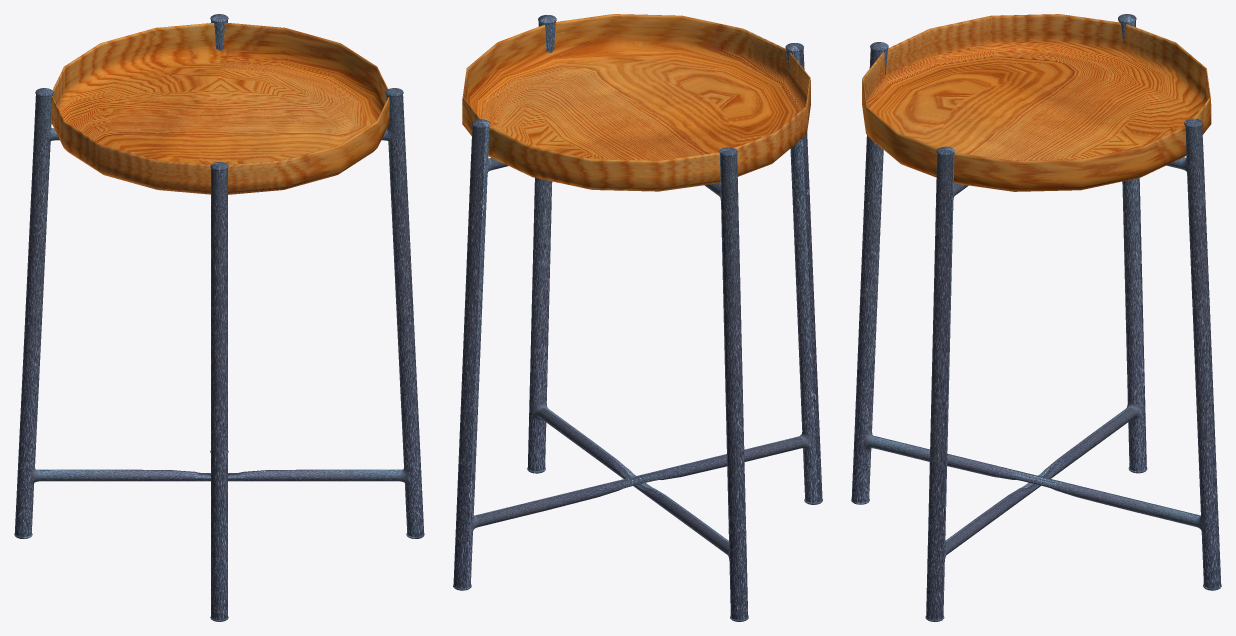
File: Mesa peque.obj
3 views of the same model, side by side, from view 1: azimuth 30°, elevation 25°; view 2: azimuth 150°, elevation 25°; view 3: azimuth 270°, elevation 25° (orthographic). The views are drawn at different scales.
Parts seen in each view (by area): view 1: Cylinder003, Cylinder001, Object002; view 2: Cylinder003, Cylinder001, Object002; view 3: Cylinder003, Cylinder001, Object002.
Part boxes in pixels (box(x1,y1,x2,y2)): Cylinder003: box(51, 22, 389, 194); Cylinder001: box(14, 20, 424, 619); Object002: box(14, 14, 424, 621); Cylinder003: box(462, 14, 810, 191); Cylinder001: box(453, 21, 822, 619); Object002: box(453, 15, 822, 621); Cylinder003: box(862, 14, 1211, 191); Cylinder001: box(851, 20, 1221, 619); Object002: box(851, 14, 1221, 621).
Bounding box in the file's own units: 3.09 × 4.26 × 3.09.
2 materials, 2 textured.
